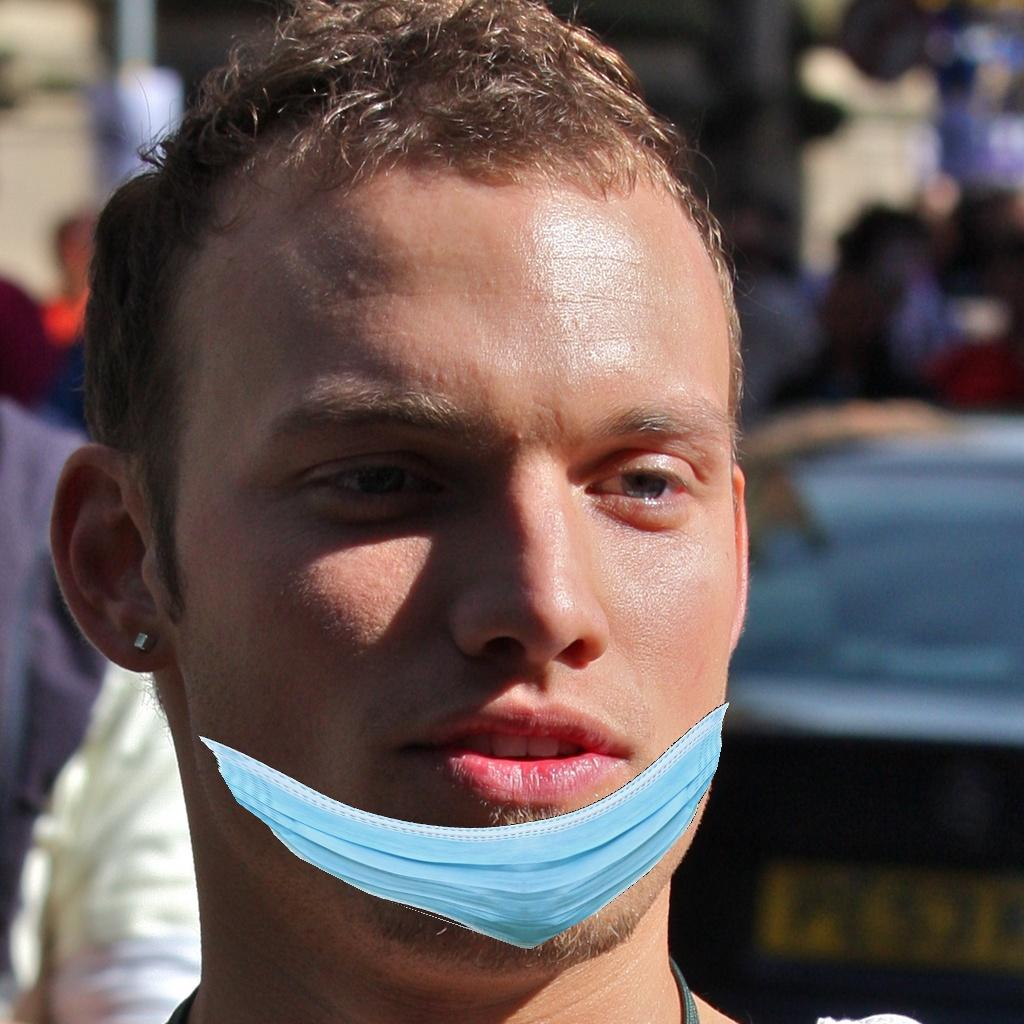Máscara Incorreta: (129, 236, 740, 969)
